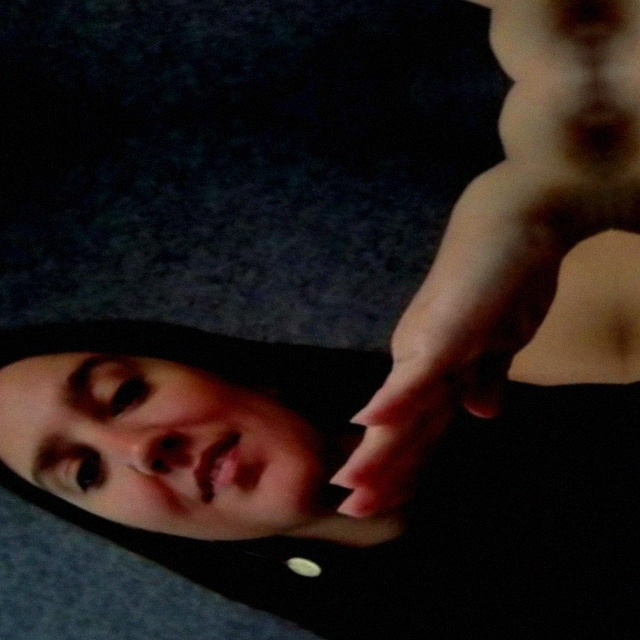Paper: (201, 0, 583, 15)
